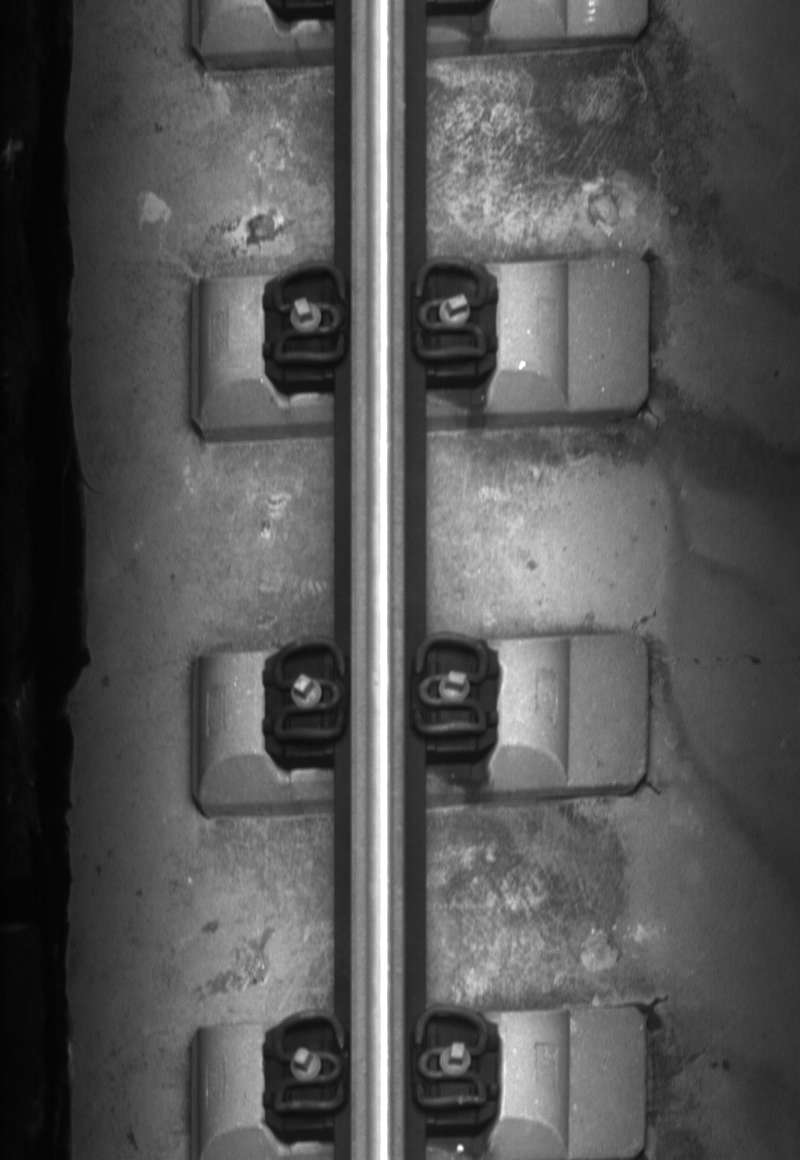l_faster: (267, 1008, 351, 1119), (267, 632, 349, 745), (267, 259, 350, 370)
r_faster: (408, 1001, 494, 1119), (411, 631, 493, 742), (410, 255, 491, 366)
